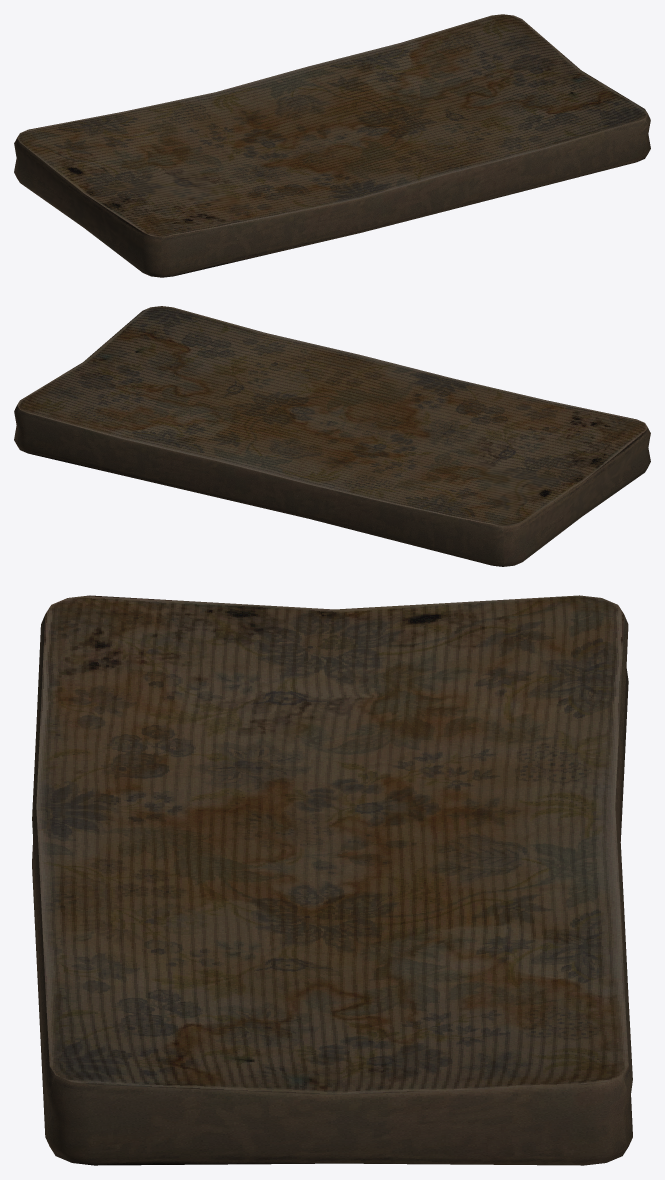
Rendered from old_mattress_mx_1.glb.
3 renders of one model, top to bottom at view 1: azimuth 30°, elevation 25°; view 2: azimuth 150°, elevation 25°; view 3: azimuth 270°, elevation 25°, orthographic. The views are drawn at different scales.
Visible parts, largest first — view 1: old_mattress_mx_1; view 2: old_mattress_mx_1; view 3: old_mattress_mx_1.
Part boxes in pixels (<box>): old_mattress_mx_1: <box>14,14,650,277</box>; old_mattress_mx_1: <box>14,306,650,566</box>; old_mattress_mx_1: <box>32,595,632,1165</box>.
Bounding box in the file's own units: 2.62 × 0.2 × 1.35.
Materials: 1 (1 with a texture image).
